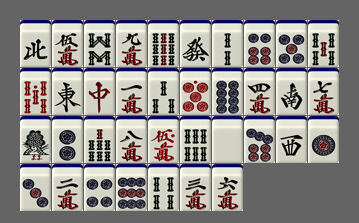0m: (148, 116, 179, 163)
0p: (180, 68, 211, 115)
0s: (20, 68, 51, 115)
1m: (116, 68, 147, 115)
1p: (308, 116, 339, 163)
1s: (20, 116, 51, 163)
1z: (52, 68, 83, 115)
2m: (52, 164, 83, 211)
2p: (52, 116, 83, 163)
2s: (212, 20, 243, 67)
2z: (276, 68, 307, 115)
3m: (180, 164, 211, 211)
3p: (20, 164, 51, 211)
3s: (148, 68, 179, 115)
3z: (276, 116, 307, 163)
4m: (244, 68, 275, 115)
4p: (84, 164, 115, 211)
4s: (148, 164, 179, 211)
4z: (20, 20, 51, 67)
5m: (52, 20, 83, 67)
5p: (276, 20, 307, 67)
5s: (308, 20, 339, 67)
5z: (212, 116, 243, 163)
6m: (212, 164, 243, 211)
6p: (244, 20, 275, 67)
6s: (180, 116, 211, 163)
6z: (180, 20, 211, 67)
7m: (308, 68, 339, 115)
7p: (244, 116, 275, 163)
7s: (84, 116, 115, 163)
7z: (84, 68, 115, 115)
8m: (116, 116, 147, 163)
8p: (212, 68, 243, 115)
8s: (84, 20, 115, 67)
9m: (116, 20, 147, 67)
9p: (116, 164, 147, 211)
9s: (148, 20, 179, 67)
